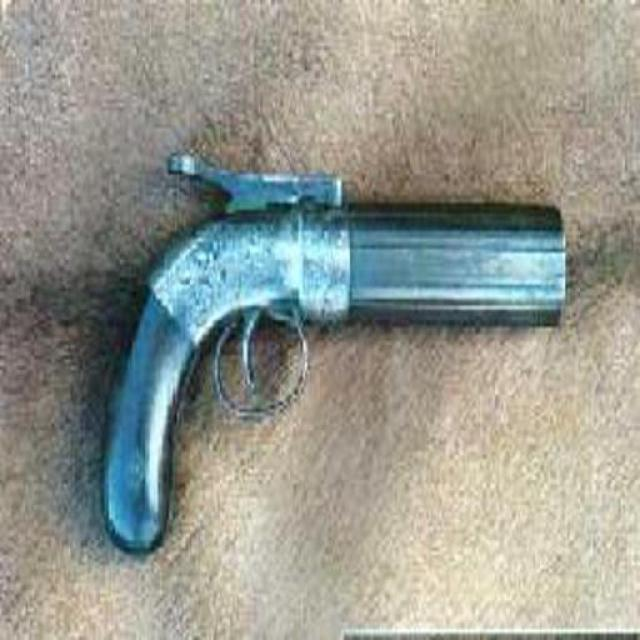pistol: (97, 141, 571, 540)
